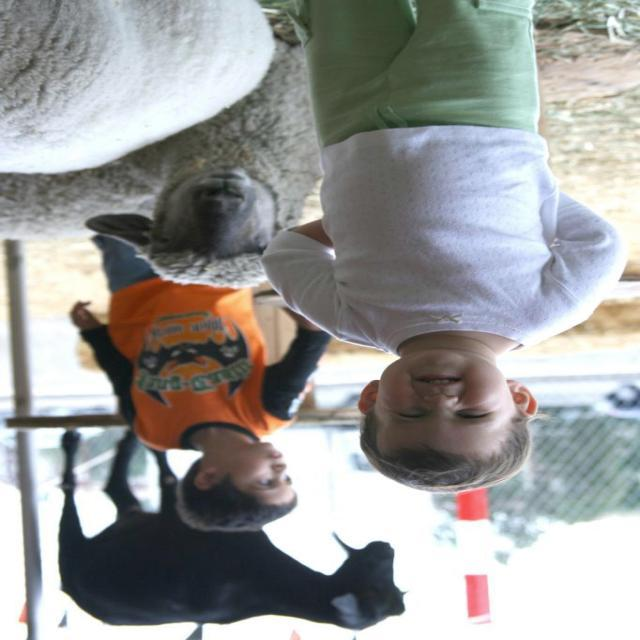Goat: (0, 37, 324, 291), (55, 430, 409, 633), (0, 1, 276, 176)
